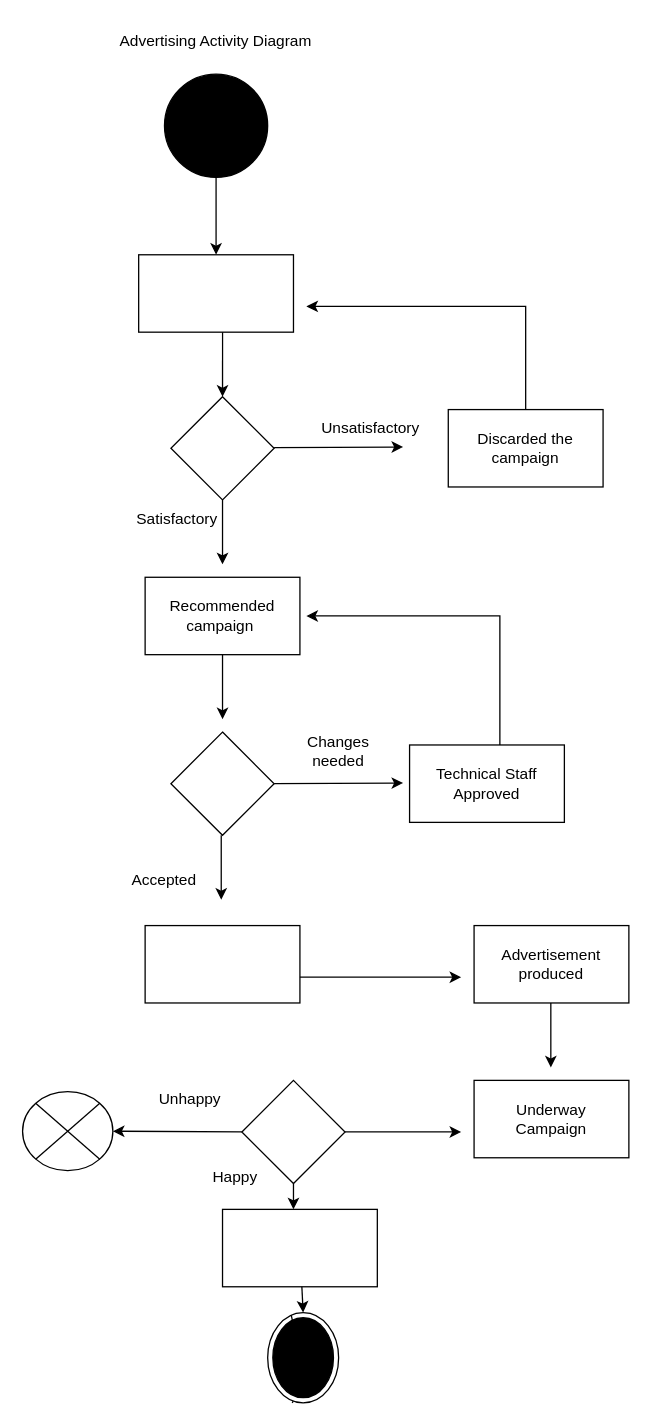
The diagram is 651 pixels wide and 1427 high, and some of its shapes have lost their labels. Here are the shapes that lost their labels. From the top down, the centre of each, then its label:
At point (215, 292): "Customer's Proposal".
At point (222, 963): "Commissioned campaign".
At point (299, 1247): "Final Payment".
